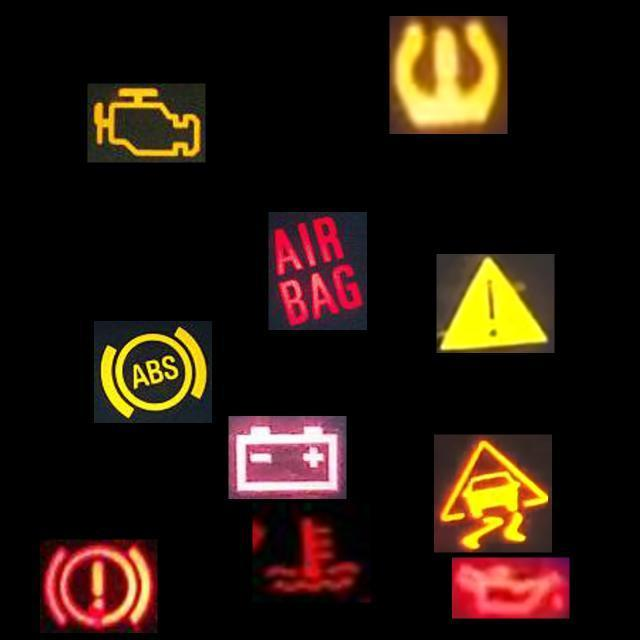Central Warning lamp: (436, 254, 554, 353)
Engine cooling system: (252, 503, 370, 603)
